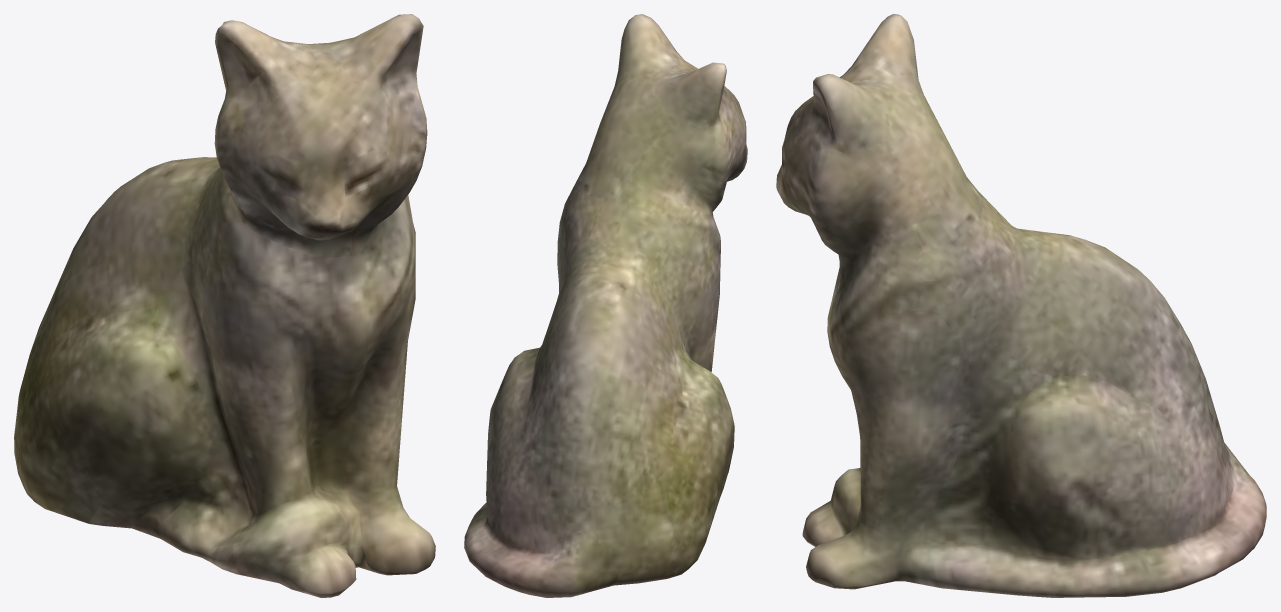
File: th_katzenstatue.glb
The picture shows the model from 3 angles, left to right: view 1: azimuth 30°, elevation 25°; view 2: azimuth 150°, elevation 25°; view 3: azimuth 270°, elevation 25°; orthographic projection. The views are drawn at different scales.
Parts seen in each view (by area): view 1: concrete_cat_statue; view 2: concrete_cat_statue; view 3: concrete_cat_statue.
Part boxes in pixels (x1,y1,x2,y2): concrete_cat_statue: (14,14,435,597); concrete_cat_statue: (464,14,747,597); concrete_cat_statue: (776,14,1266,597).
Size of the model in its own units: 0.1528 by 0.2828 by 0.2497.
1 material, 1 textured.
